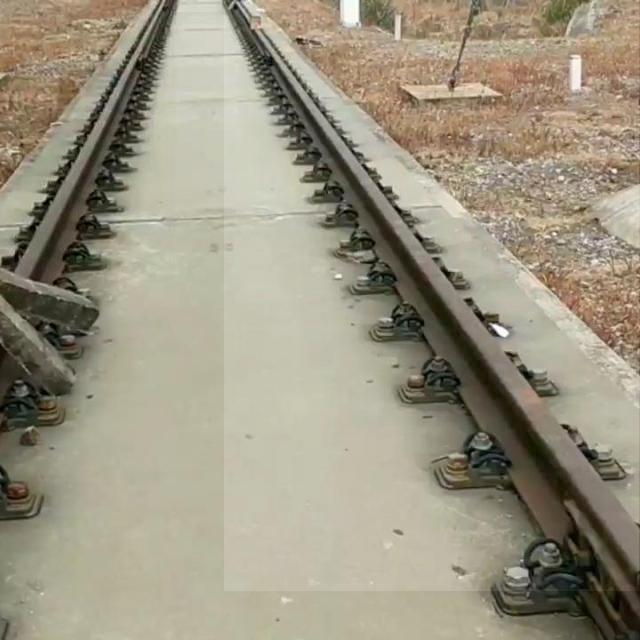rail: (226, 1, 640, 592), (17, 1, 176, 284)
